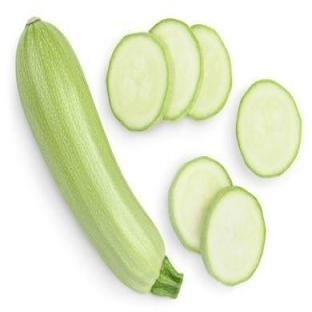Zucchini: (16, 20, 182, 297), (107, 33, 171, 130), (201, 188, 265, 285), (236, 81, 301, 176), (169, 158, 231, 251), (151, 20, 202, 119), (188, 24, 231, 119)
